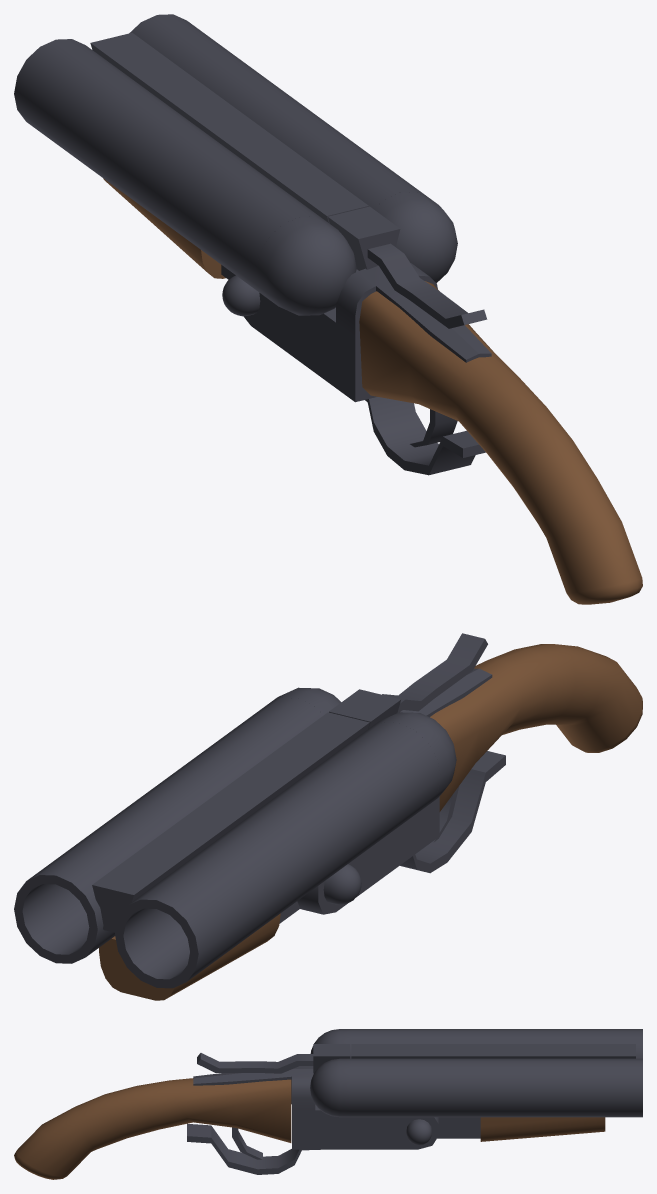
Rendered from Blam.fbx.
The picture shows the model from 3 angles, top to bottom: view 1: azimuth 30°, elevation 25°; view 2: azimuth 150°, elevation 25°; view 3: azimuth 270°, elevation 25°; orthographic projection. The views are drawn at different scales.
Parts seen in each view (by area): view 1: Shell_Tube_Left, Handle, Shell_Tube_Right, BarrelClamp, SwivelClamp, Triggers, Shell_TubeEnd_Left, Shell_TubeEnd_Right, AimPoint_End, HandRestingPoint, SwivelSpinners; view 2: Shell_Tube_Left, Shell_Tube_Right, Handle, BarrelClamp, Triggers, SwivelClamp, HandRestingPoint, Shell_TubeEnd_Left, AimPoint_End, SwivelSpinners, Shell_TubeEnd_Right; view 3: Shell_Tube_Right, Handle, SwivelClamp, Shell_Tube_Left, BarrelClamp, Triggers, HandRestingPoint, Shell_TubeEnd_Right, BarrelClamp_Bottom, AimPoint_End, SwivelSpinners, Shell_TubeEnd_Left.
Boxes of the visible parts, bbox=[...] form: Shell_Tube_Left: bbox=[14, 39, 327, 298]; Handle: bbox=[359, 281, 642, 604]; Shell_Tube_Right: bbox=[129, 14, 428, 209]; BarrelClamp: bbox=[90, 32, 368, 223]; SwivelClamp: bbox=[233, 263, 491, 402]; Triggers: bbox=[365, 243, 487, 475]; Shell_TubeEnd_Left: bbox=[256, 216, 356, 315]; Shell_TubeEnd_Right: bbox=[374, 192, 457, 282]; AimPoint_End: bbox=[328, 206, 400, 270]; HandRestingPoint: bbox=[103, 178, 225, 278]; SwivelSpinners: bbox=[222, 275, 260, 316]; Shell_Tube_Left: bbox=[115, 722, 440, 988]; Shell_Tube_Right: bbox=[14, 698, 323, 963]; Handle: bbox=[430, 644, 642, 811]; BarrelClamp: bbox=[92, 712, 369, 932]; Triggers: bbox=[382, 633, 505, 873]; SwivelClamp: bbox=[297, 668, 492, 914]; HandRestingPoint: bbox=[99, 913, 280, 1000]; Shell_TubeEnd_Left: bbox=[370, 712, 456, 804]; AimPoint_End: bbox=[329, 689, 401, 728]; SwivelSpinners: bbox=[323, 864, 361, 904]; Shell_TubeEnd_Right: bbox=[269, 687, 341, 714]; Shell_Tube_Right: bbox=[350, 1058, 642, 1117]; Handle: bbox=[14, 1078, 291, 1179]; SwivelClamp: bbox=[193, 1066, 438, 1149]; Shell_Tube_Left: bbox=[350, 1029, 642, 1058]; BarrelClamp: bbox=[351, 1044, 635, 1058]; Triggers: bbox=[187, 1053, 320, 1174]; HandRestingPoint: bbox=[480, 1117, 605, 1141]; Shell_TubeEnd_Right: bbox=[310, 1058, 350, 1117]; BarrelClamp_Bottom: bbox=[437, 1117, 480, 1138]; AimPoint_End: bbox=[313, 1044, 350, 1073]; SwivelSpinners: bbox=[406, 1119, 431, 1145]; Shell_TubeEnd_Left: bbox=[310, 1029, 350, 1058].
Bounding box in the file's own units: 44.07 × 49.47 × 215.
